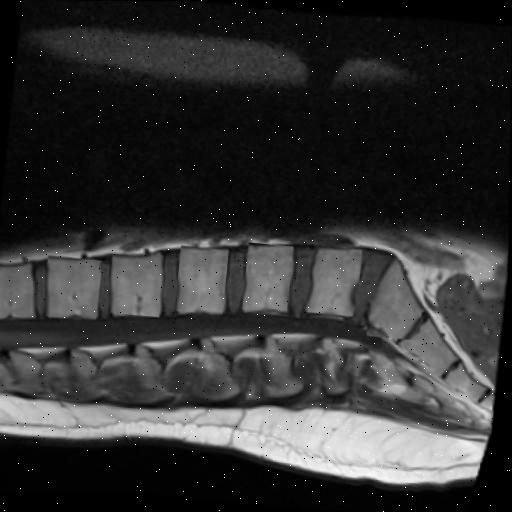L1: (48, 258, 102, 318)
L2: (113, 254, 166, 316)
L3: (179, 248, 230, 313)
L4: (244, 244, 294, 312)
L5: (309, 247, 363, 315)
S1: (370, 259, 423, 338)
